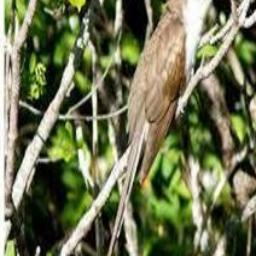Cuckoo: (103, 0, 223, 256)
